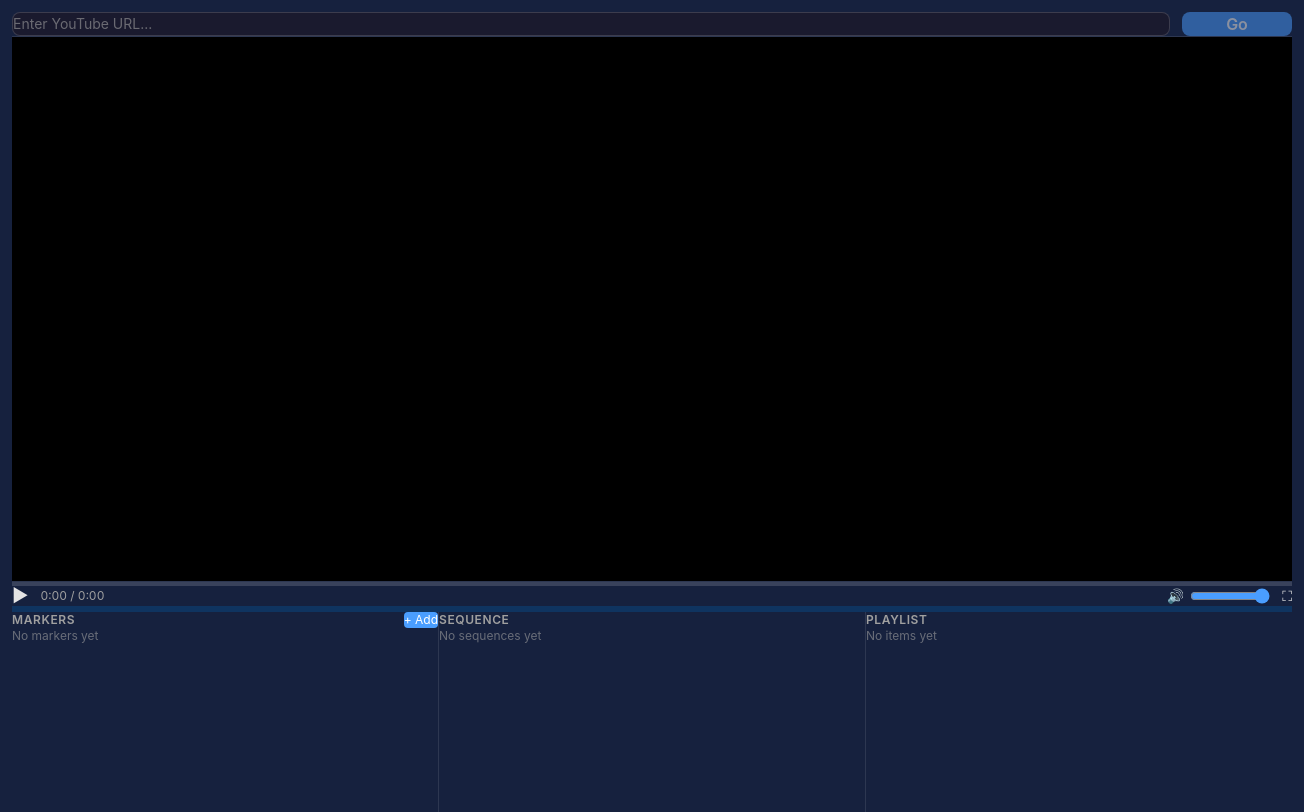
Scenario: App - US-1.1: URLから動画を読み込む › Scenario: 有効なYouTube URLで動画を読み込む › oEmbedでタイトル取得失敗時はエラーが表示されプレイヤーは変化しない
Type "https://www.youtube.com/watch?v=XXXXXXXXXXX" into the field with test id "url-input" at (591, 24), box [12, 12, 1170, 36]
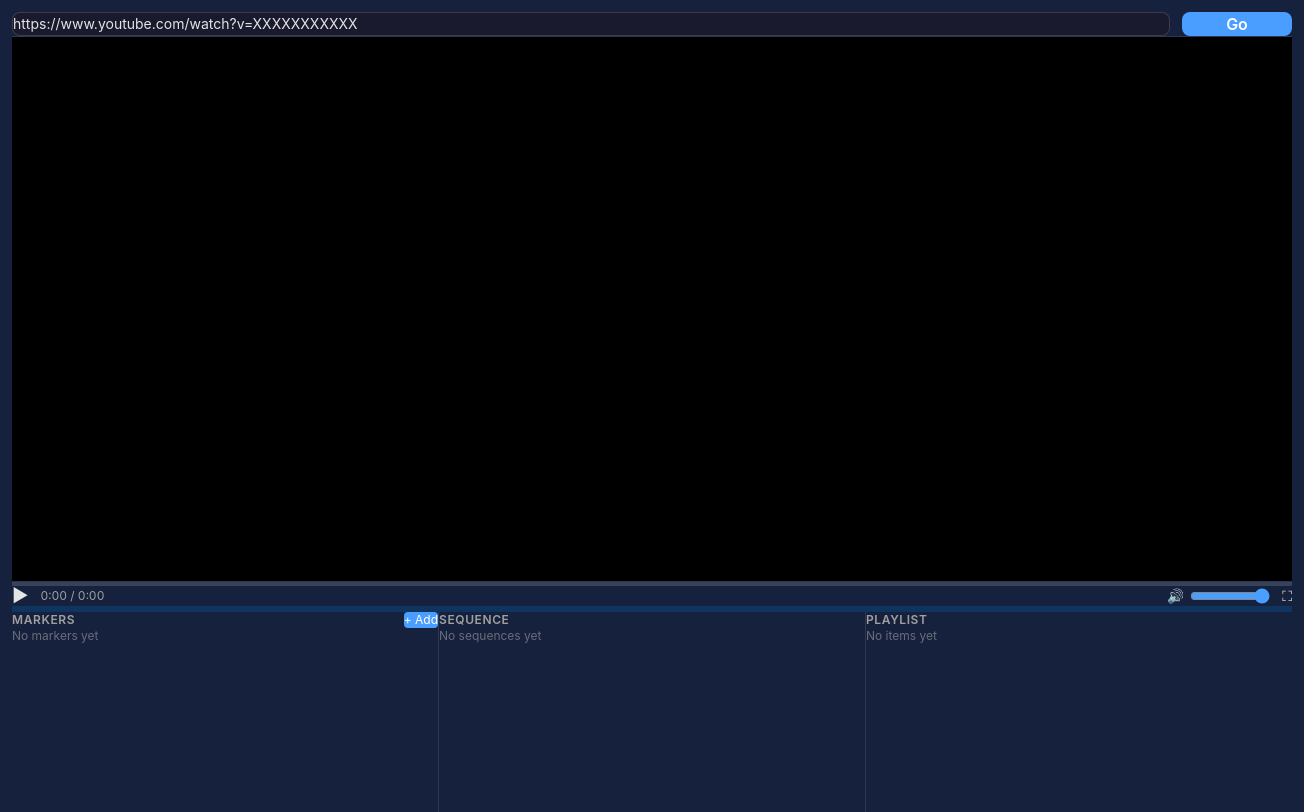
Click the button with test id "url-submit" at (1237, 24), box [1182, 12, 1292, 36]
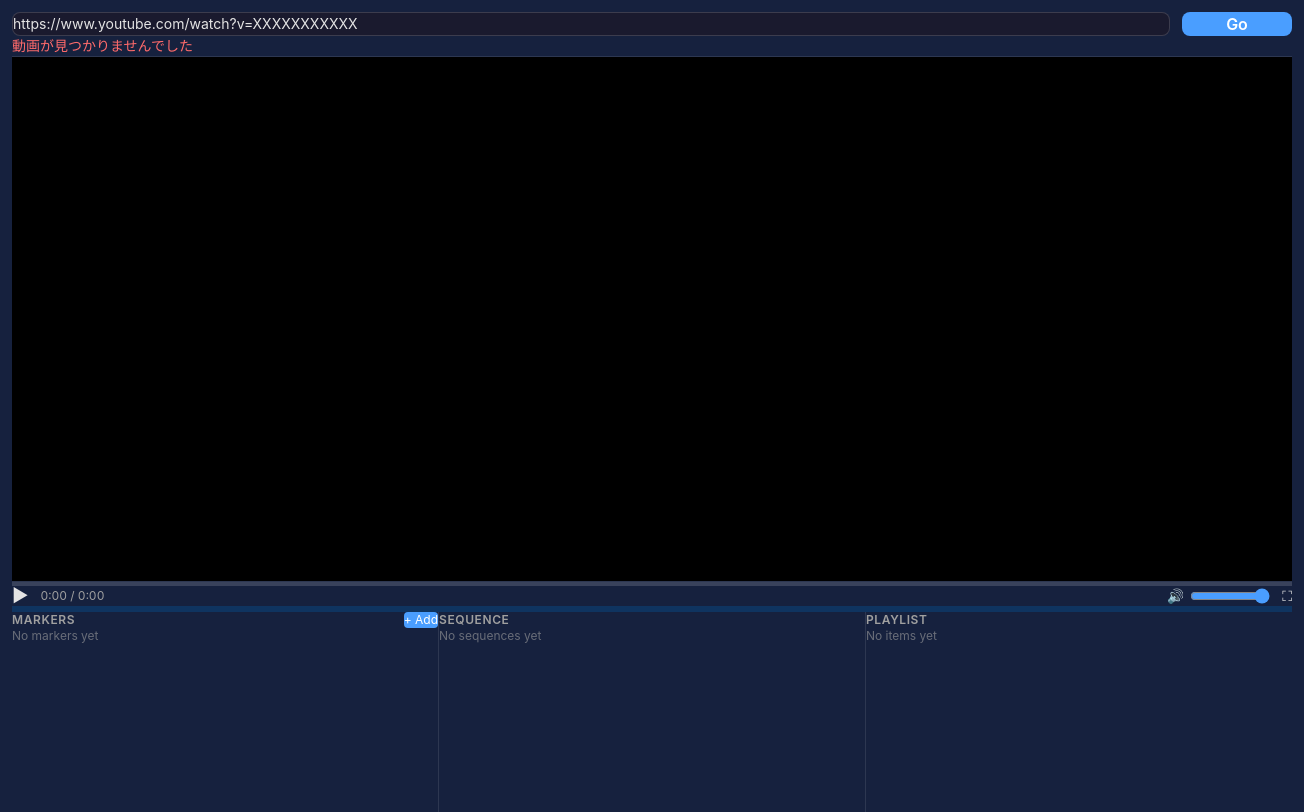
Result: the text with test id "url-error" reads "動画が見つかりませんでした" at [12, 37, 193, 54]
